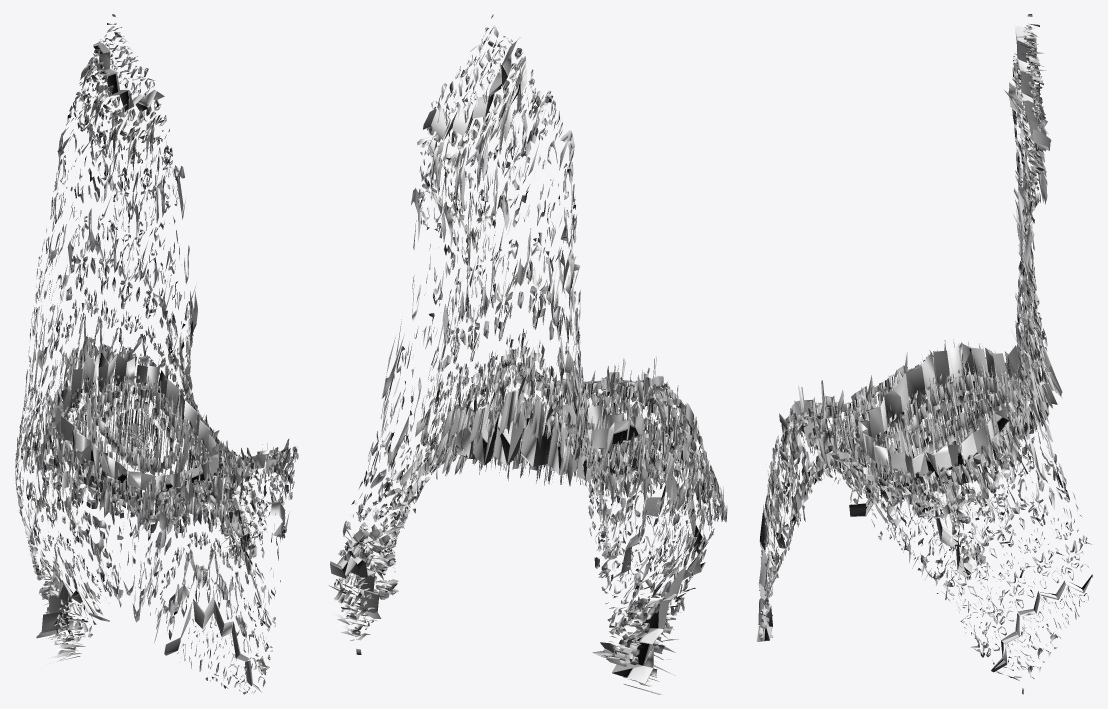
File: angry-chair-OG-v35.glb
3 views of the same model, side by side, from view 1: azimuth 30°, elevation 25°; view 2: azimuth 150°, elevation 25°; view 3: azimuth 270°, elevation 25° (orthographic). The views are drawn at different scales.
Parts seen in each view (by area): view 1: Mesh_5; view 2: Mesh_5; view 3: Mesh_5.
Boxes of the visible parts, left/top/right/bottom form: Mesh_5: left=15, top=14, right=298, bottom=694; Mesh_5: left=329, top=14, right=727, bottom=694; Mesh_5: left=756, top=14, right=1092, bottom=694.
Size of the model in its own units: 0.9133 by 2.1 by 1.03.
Materials: 1 (1 with a texture image).
